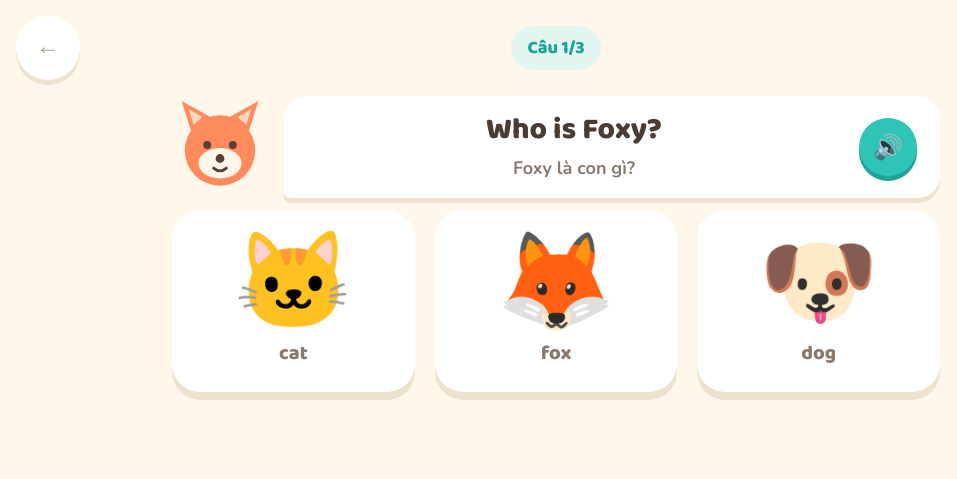
Scenario: answers a tap with ONE sentence, the banner under the deck
Click the button "🐱 cat". click: (293, 300)
box: [172, 210, 415, 392]
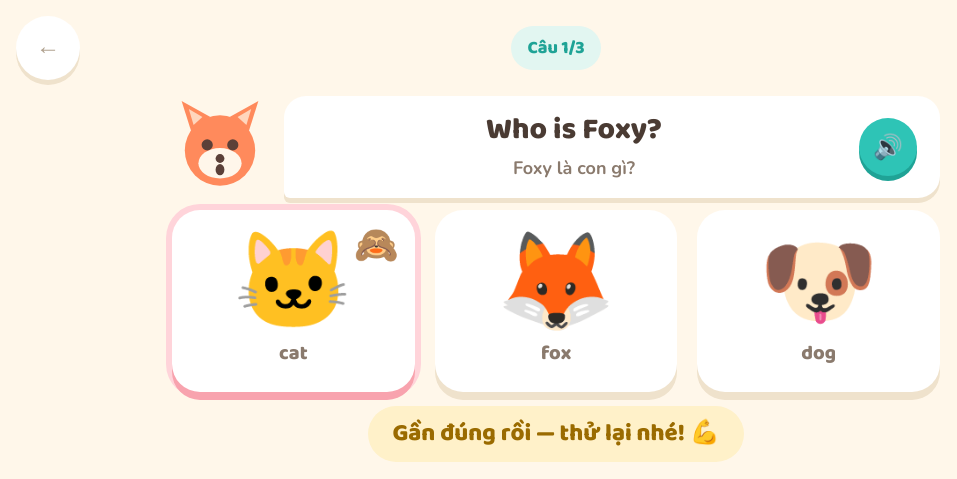
expect the text "Gần đúng rồi — thử lại nhé! 💪" is shown: met, box [368, 406, 744, 462]
